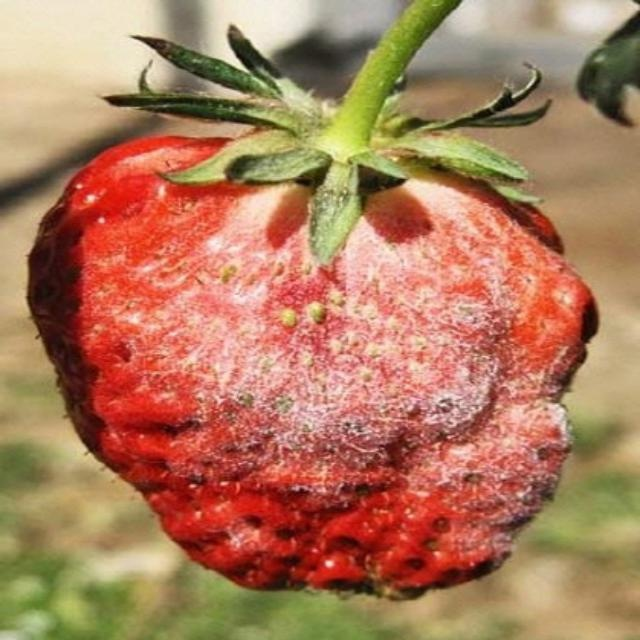Powdery Mildew Fruit: (27, 126, 602, 604)
